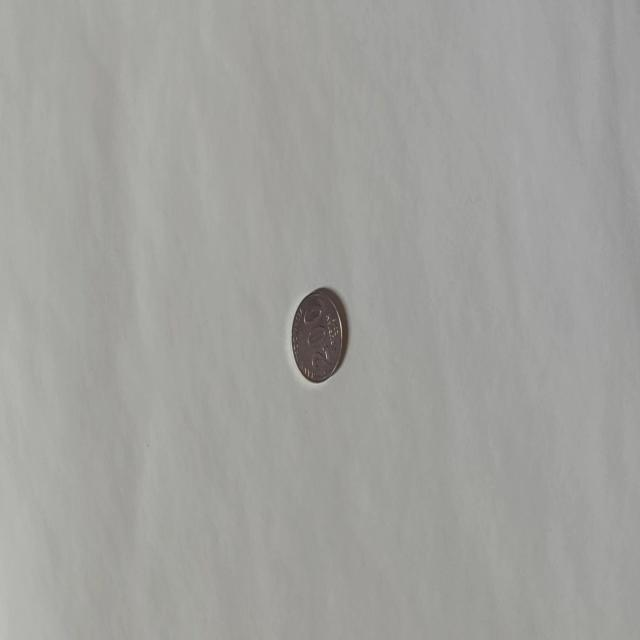dua ratus rupiah: (290, 286, 344, 384)
